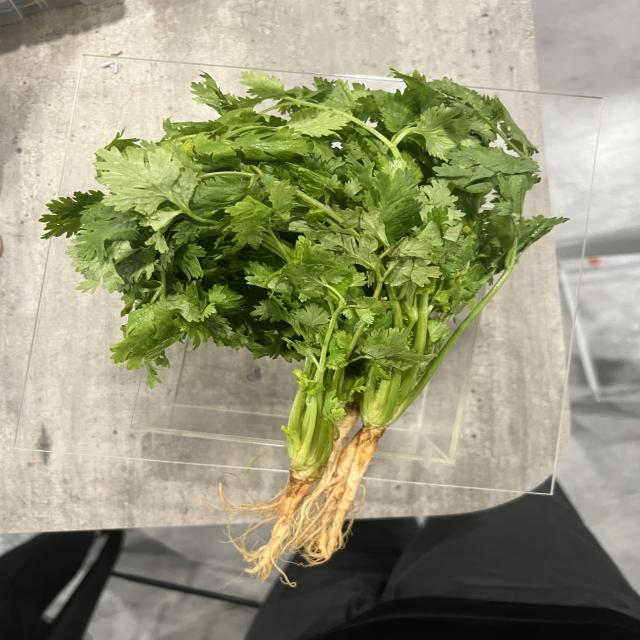cilantro: (43, 66, 538, 566)
